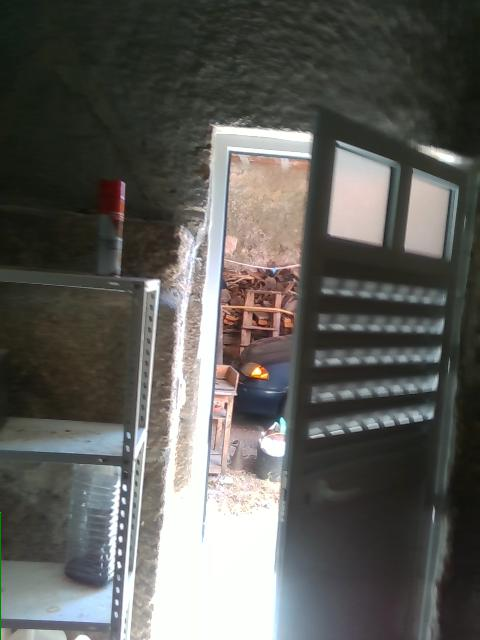semi_door: (184, 99, 475, 639)
